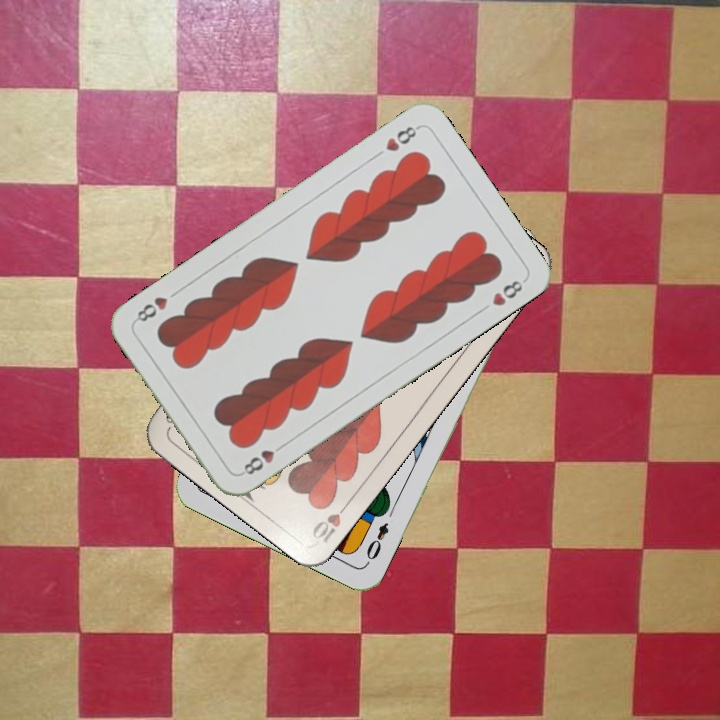EO: (362, 518, 392, 568)
H10: (308, 495, 355, 546)
H8: (236, 439, 288, 478), (381, 121, 422, 154)
